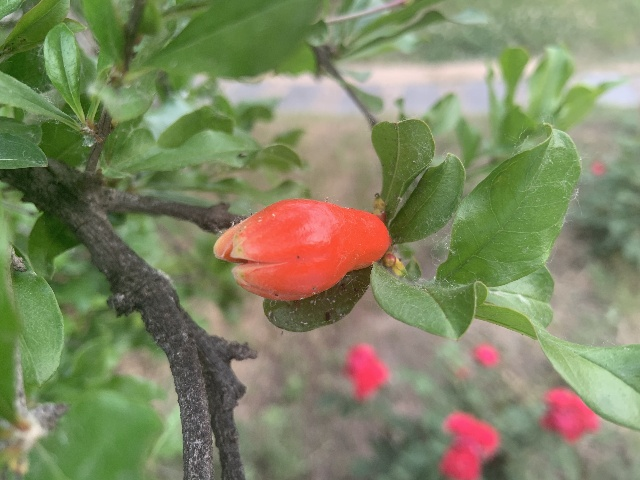flower: (214, 197, 391, 299)
